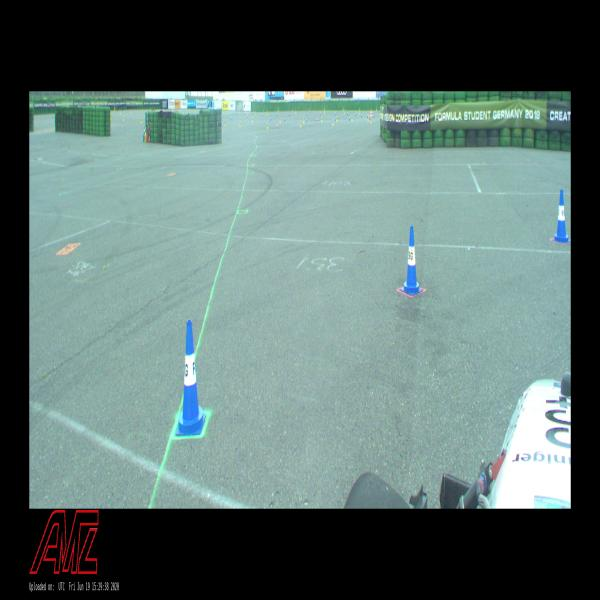blue_cone: (176, 320, 206, 436), (402, 226, 424, 294), (552, 190, 570, 242)
